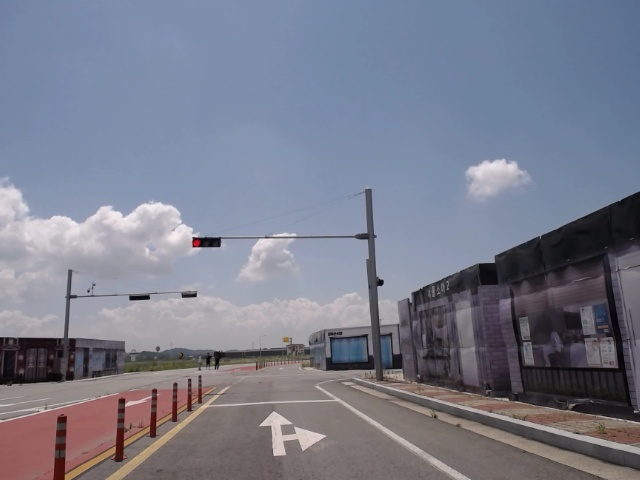red_3: (191, 237, 224, 248)
